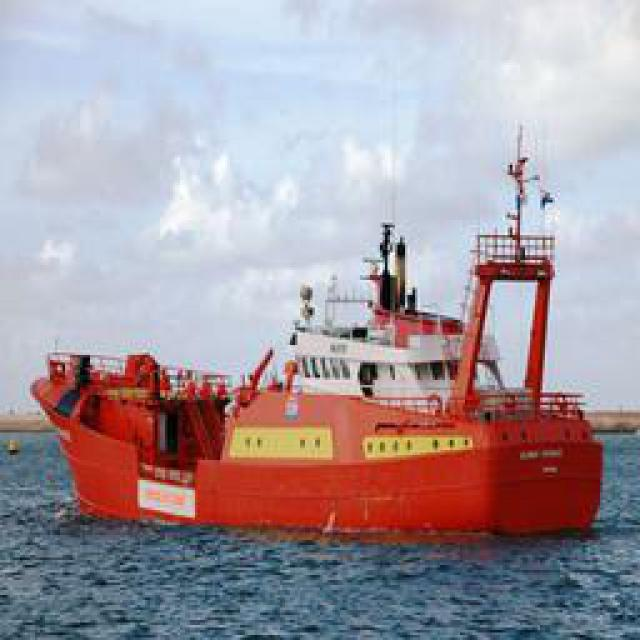Ship: (35, 206, 610, 534)
